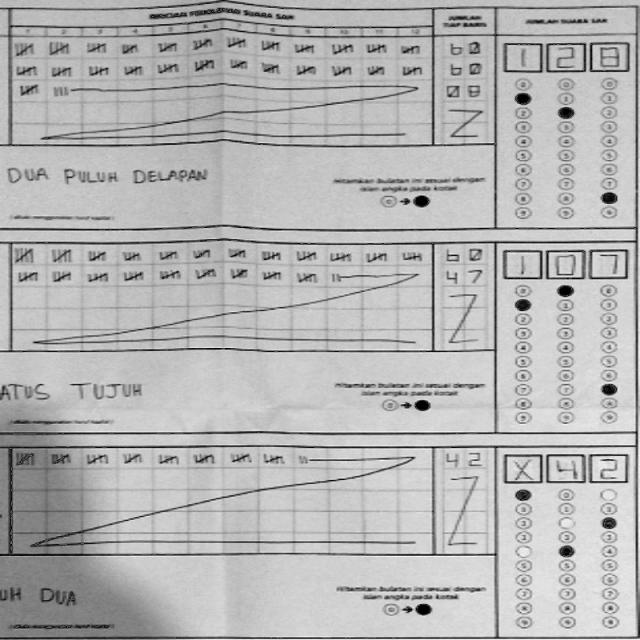Suara: (501, 449, 632, 488), (500, 244, 630, 283), (501, 38, 632, 76)
